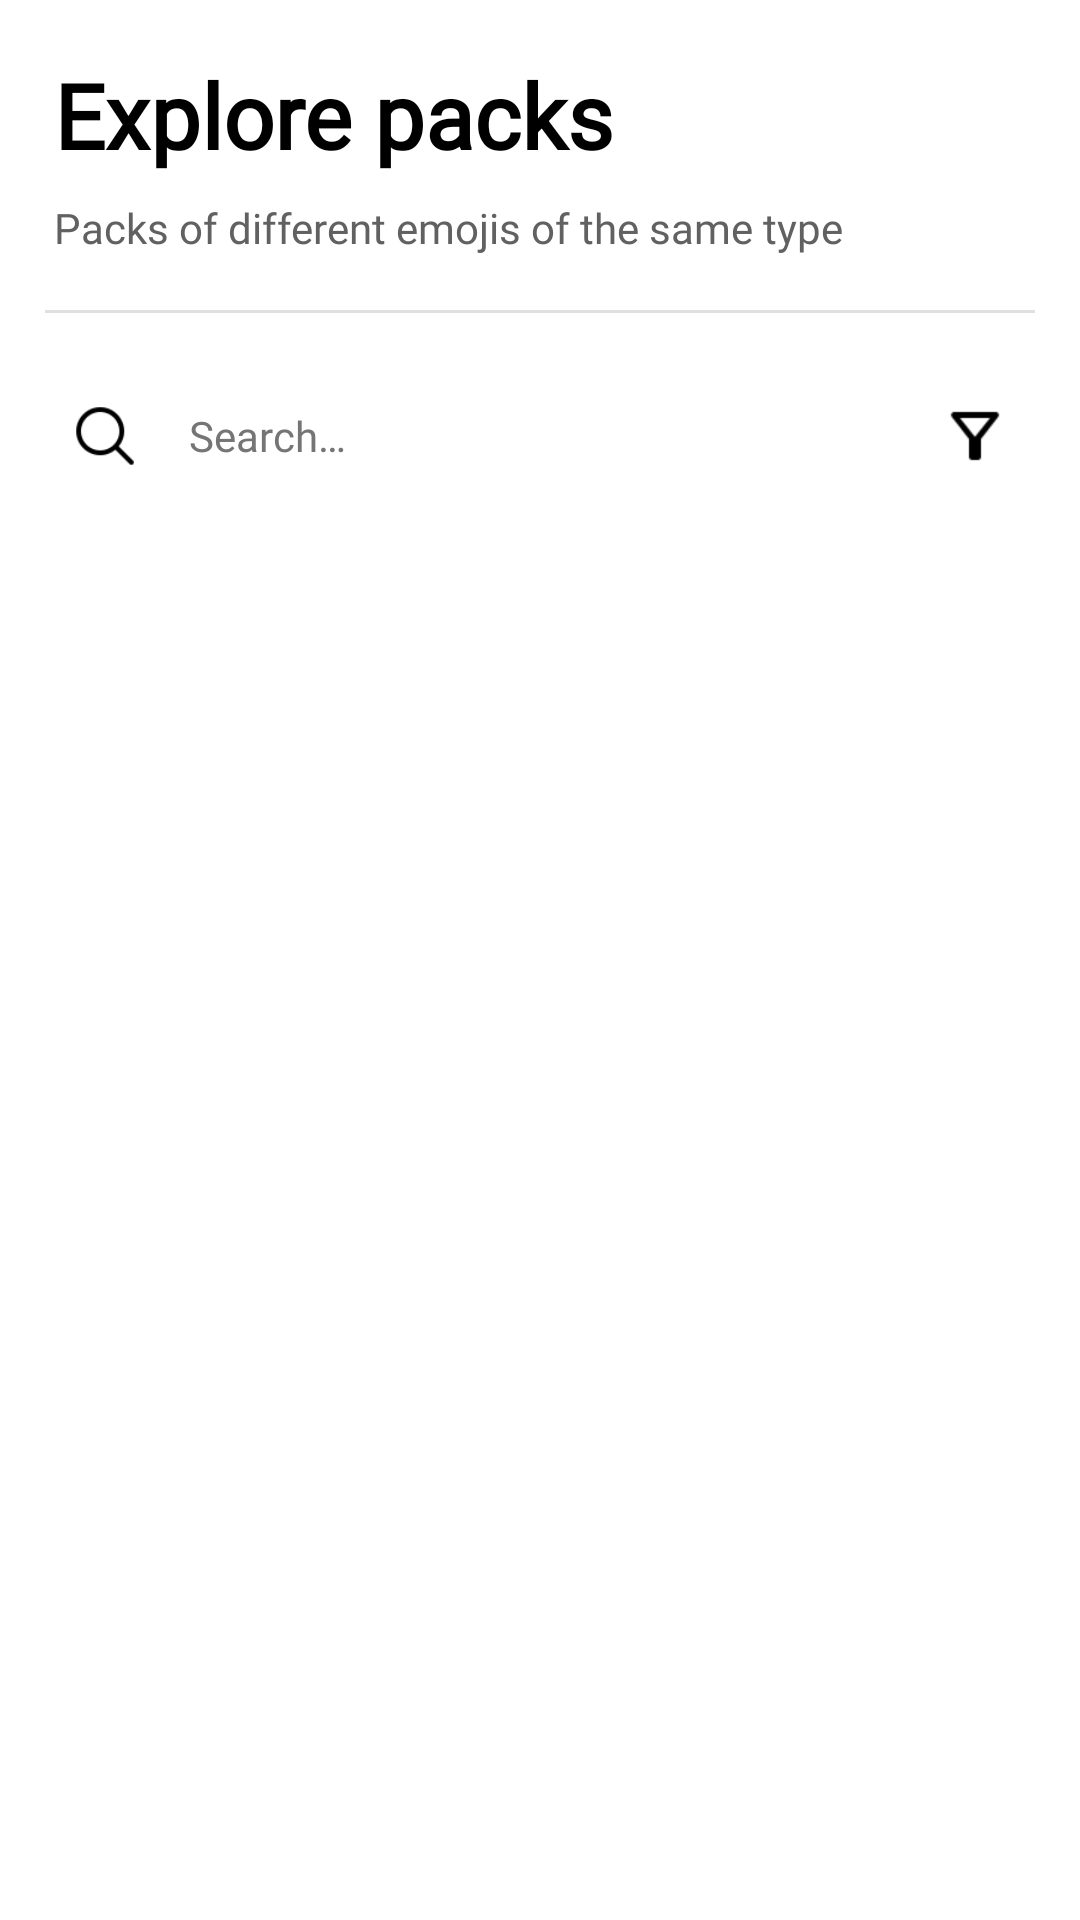

Icon click points for this 1080 × 1920 phone screenshot, format (x=x, y=y):
filter: (x=975, y=436)
